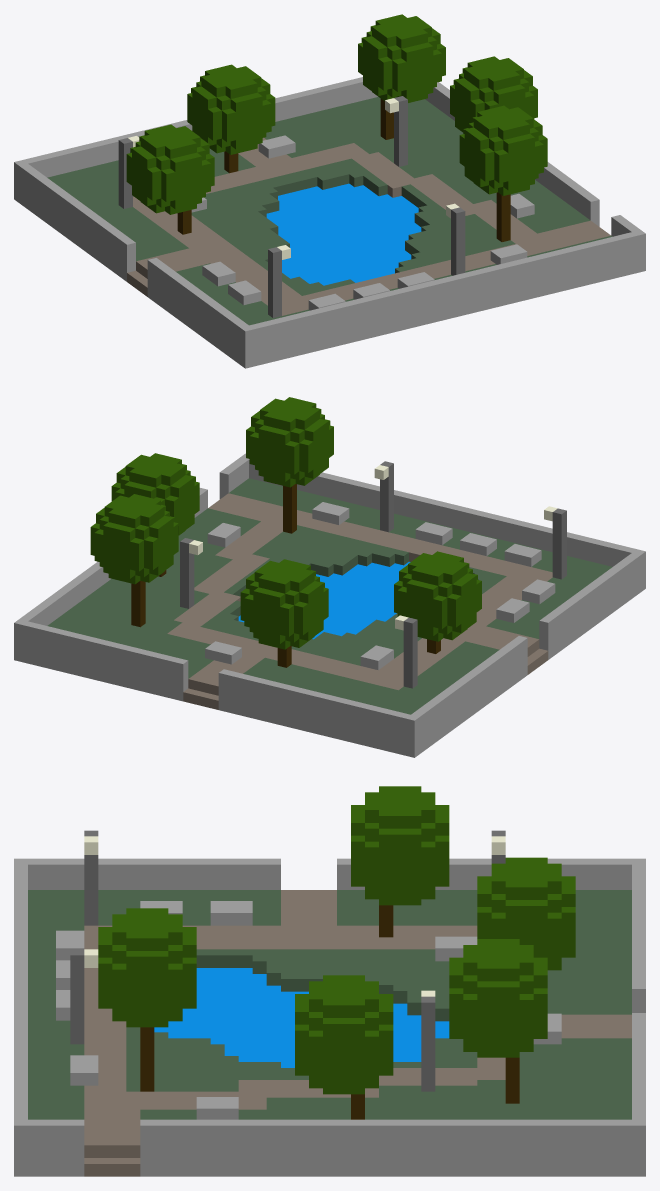
The model's file is park01.fbx.
The picture shows the model from 3 angles, top to bottom: view 1: azimuth 30°, elevation 25°; view 2: azimuth 150°, elevation 25°; view 3: azimuth 270°, elevation 25°; orthographic projection. The views are drawn at different scales.
Visible parts, largest first — view 1: Objekt; view 2: Objekt; view 3: Objekt.
Part boxes in pixels (<box>): Objekt: <box>14,14,645,368</box>; Objekt: <box>14,397,645,757</box>; Objekt: <box>14,786,645,1176</box>.
Size of the model in its own units: 45 by 15 by 45.
1 material, 1 textured.
